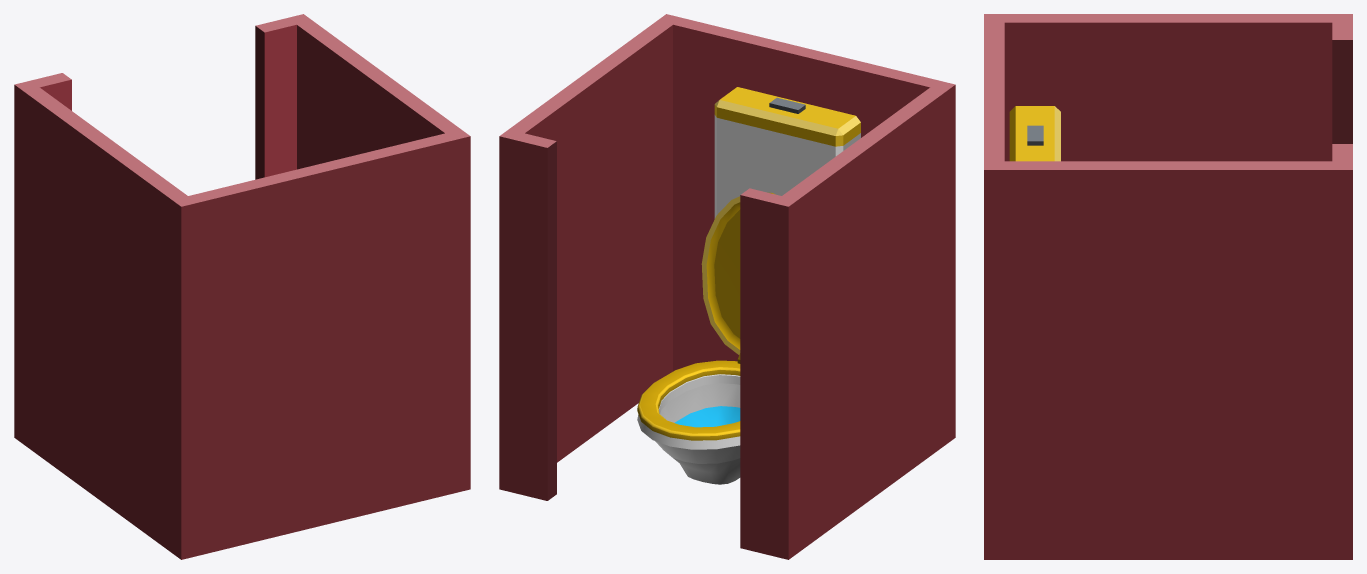
The model's file is ToiletCabine.fbx.
The picture shows the model from 3 angles, left to right: view 1: azimuth 30°, elevation 25°; view 2: azimuth 150°, elevation 25°; view 3: azimuth 270°, elevation 25°; orthographic projection. The views are drawn at different scales.
Parts seen in each view (by area): view 1: ToiletCabineBase; view 2: ToiletCabineBase, ToiletBowl; view 3: ToiletCabineBase, ToiletBowl.
Part boxes in pixels (x1=…): ToiletCabineBase: x1=14, y1=14, x2=470, y2=559; ToiletCabineBase: x1=499, y1=14, x2=955, y2=559; ToiletBowl: x1=637, y1=87, x2=860, y2=484; ToiletCabineBase: x1=984, y1=14, x2=1352, y2=559; ToiletBowl: x1=1009, y1=106, x2=1060, y2=161.
Size of the model in its own units: 180 by 210 by 180.
